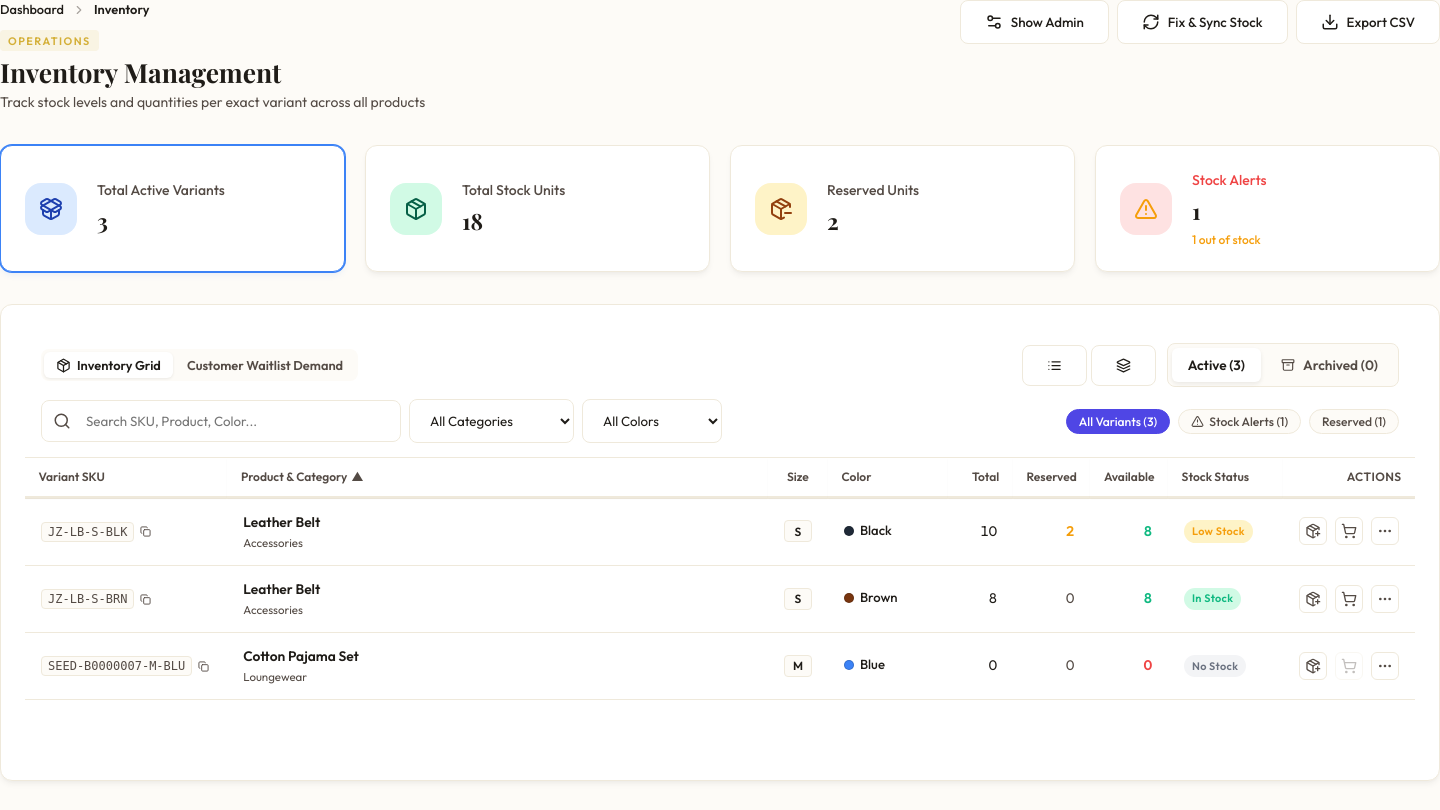
Test: Inventory Modernized Grid › opens Write-Off mode directly from the row more actions menu
Open More Options on first row
What coordinates should you click on to do the following:
click the button titled "More actions" in the row of "Black"
I would click on:
 (1385, 532)
Its box is [1371,518,1399,546].
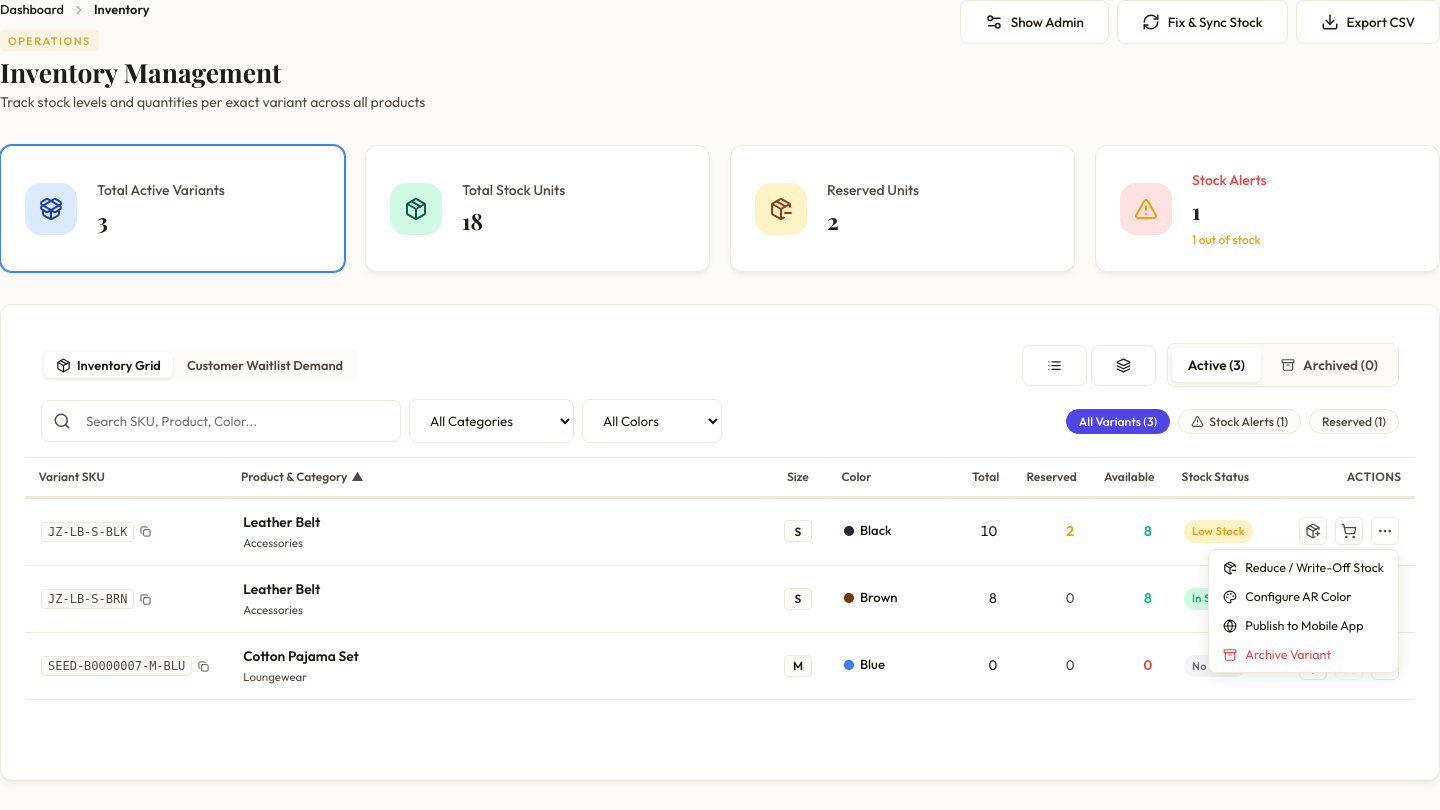
What coordinates should you click on to do the following:
click the button "Reduce / Write-Off Stock"
I would click on:
 (1304, 568)
Its box is [1213,554,1394,582].
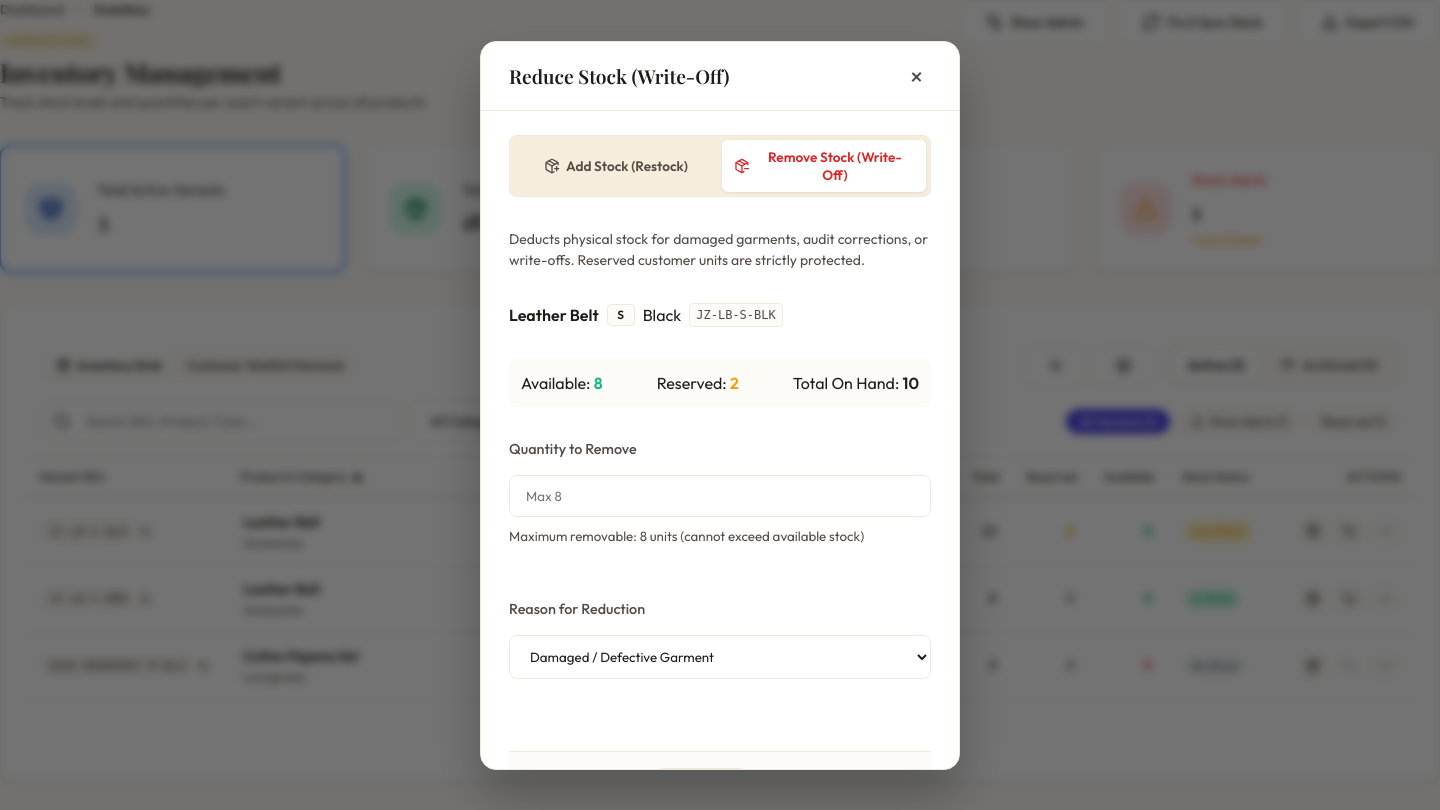
Result: the heading "Reduce Stock (Write-Off)" is shown at [509,62,729,90]
Result: the number field labelled "Quantity to Remove" is shown at [509,475,931,517]
